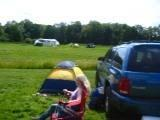car: (88, 40, 96, 48), (68, 42, 78, 47), (120, 42, 128, 44)
truck: (95, 39, 160, 120), (34, 39, 59, 45)
